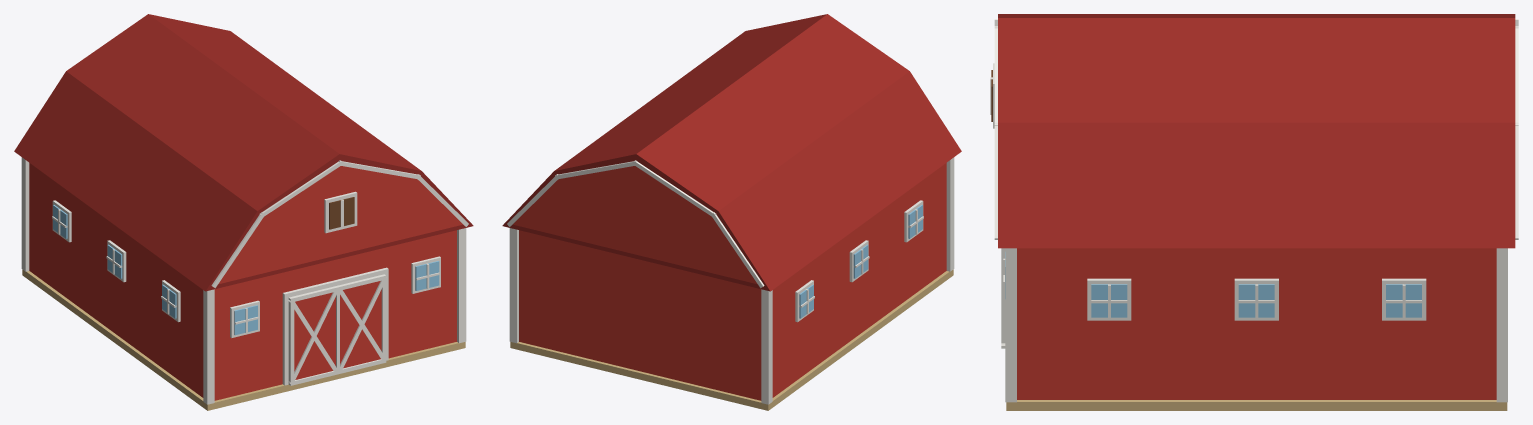
The model's file is RedBarn.fbx.
3 views of the same model, side by side, from view 1: azimuth 30°, elevation 25°; view 2: azimuth 150°, elevation 25°; view 3: azimuth 270°, elevation 25° (orthographic). The views are drawn at different scales.
Visible parts, largest first — view 1: RedBarn; view 2: RedBarn; view 3: RedBarn.
Boxes of the visible parts, bbox=[...] form: RedBarn: bbox=[14, 14, 473, 410]; RedBarn: bbox=[502, 14, 961, 410]; RedBarn: bbox=[990, 14, 1518, 410].
Bounding box in the file's own units: 717 × 581 × 904.
